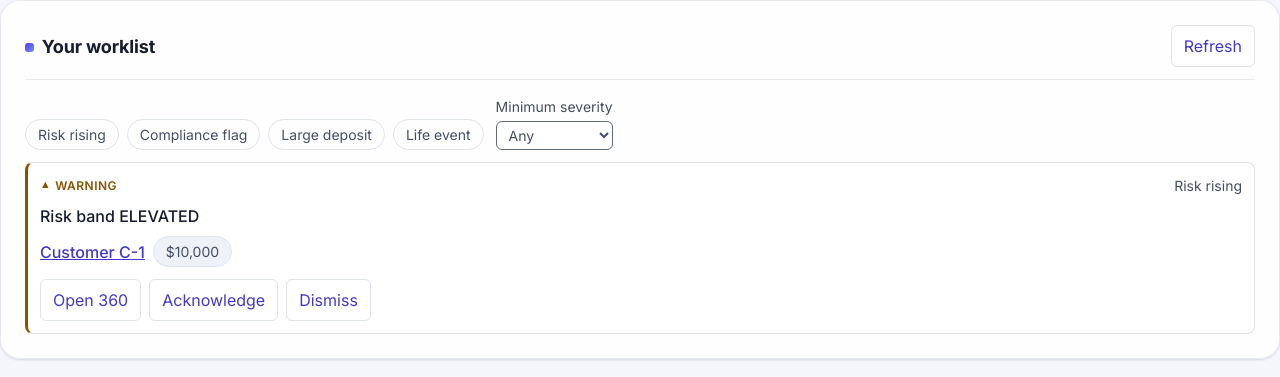
Scenario: SignalsWorklist › acknowledges a signal, removing it and announcing the outcome
This screenshot has width=1280, height=377.
expect the text "Risk band ELEVATED" is shown: met, box [40, 206, 199, 226]
Click the button "Acknowledge" at (214, 300), box [149, 279, 278, 321]
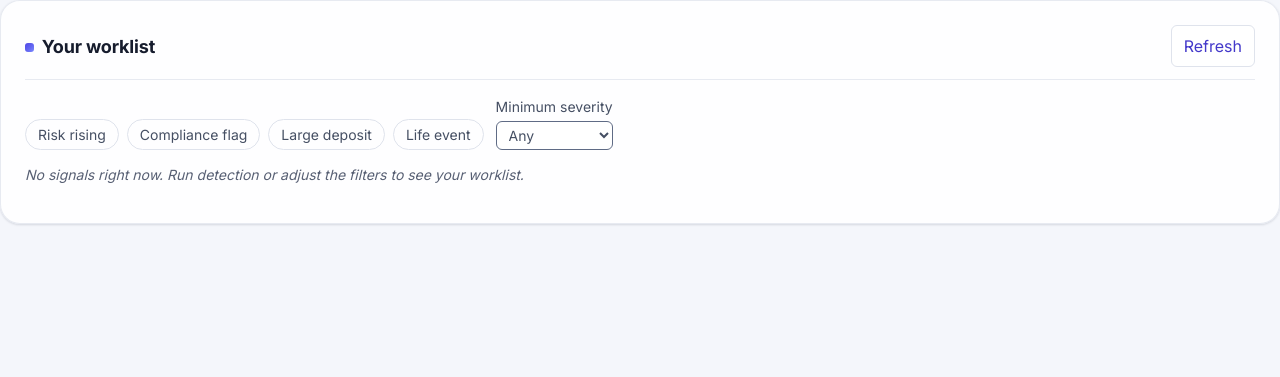
expect the text "Risk band ELEVATED" is gone: met
